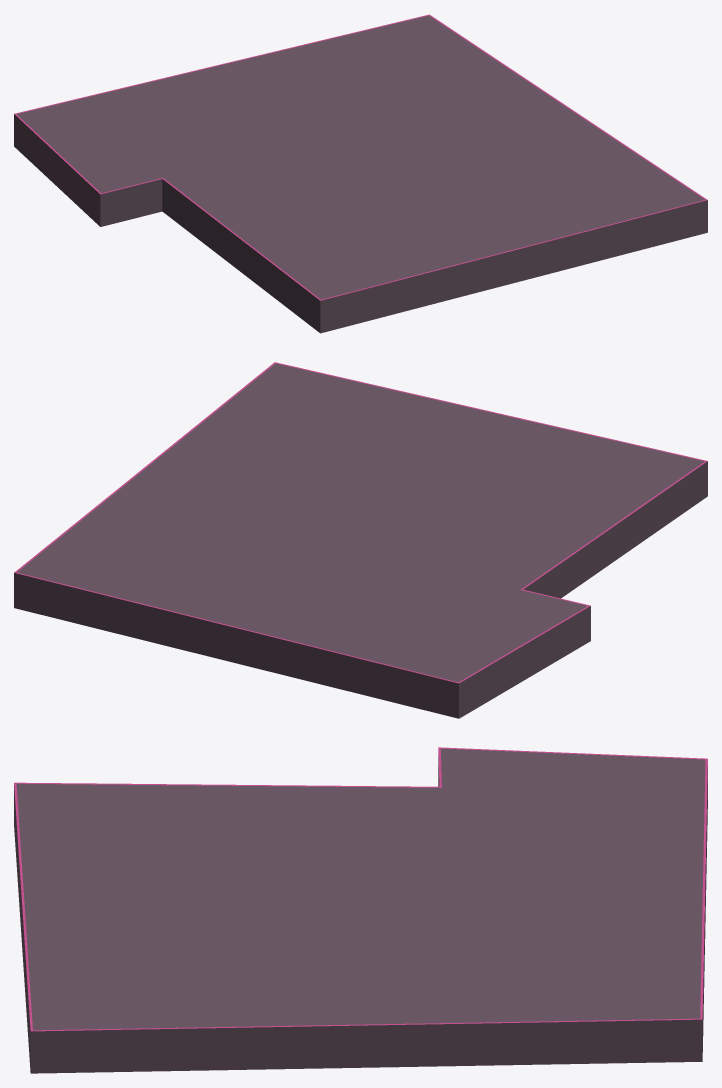
The model's file is way-205654183.glb.
3 views of the same model, one above another, from view 1: azimuth 30°, elevation 25°; view 2: azimuth 150°, elevation 25°; view 3: azimuth 270°, elevation 25° (orthographic). The views are drawn at different scales.
Parts seen in each view (by area): view 1: way-205654183; view 2: way-205654183; view 3: way-205654183.
Part boxes in pixels (box(x1,y1,x2,y2)): way-205654183: box(14, 14, 707, 333); way-205654183: box(14, 362, 707, 718); way-205654183: box(14, 747, 707, 1073).
Bounding box in the file's own units: 43.3 × 3 × 44.71.
